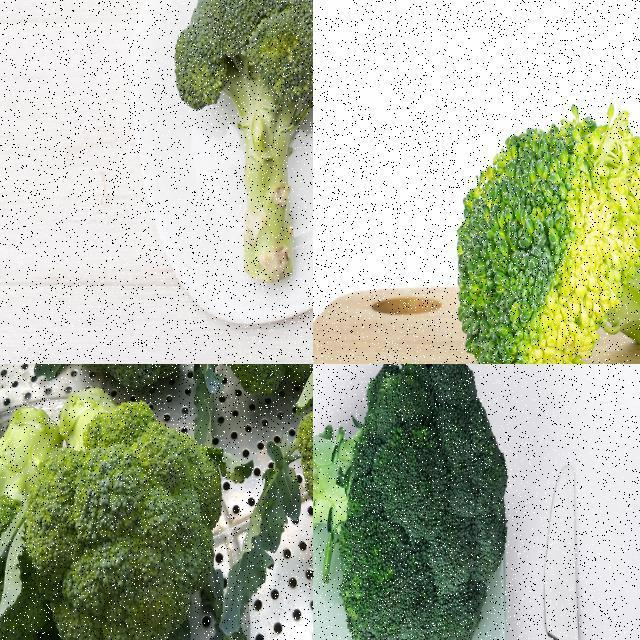broccoli: (313, 364, 515, 639), (23, 392, 221, 639), (453, 101, 639, 363), (172, 0, 312, 289), (0, 406, 64, 639)
